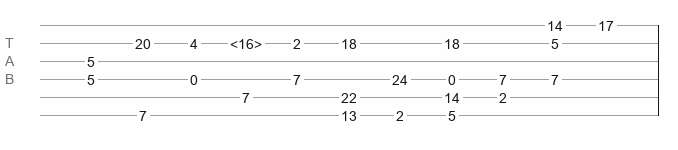0: (190, 72, 198, 82), (448, 72, 456, 82)
13: (341, 108, 357, 118)
14: (444, 90, 460, 100), (547, 18, 563, 28)
17: (598, 18, 614, 28)
18: (341, 36, 357, 46), (444, 36, 460, 46)
2: (293, 36, 301, 46), (396, 108, 404, 118), (499, 90, 507, 100)
20: (135, 36, 151, 46)
22: (341, 90, 357, 100)
24: (392, 72, 408, 82)
4: (190, 36, 198, 46)
5: (87, 54, 95, 64), (87, 72, 95, 82), (448, 108, 456, 118), (551, 36, 559, 46)
7: (139, 108, 147, 118), (242, 90, 250, 100), (293, 72, 301, 82), (499, 72, 507, 82), (551, 72, 559, 82)
harmonic: (230, 36, 262, 46)
